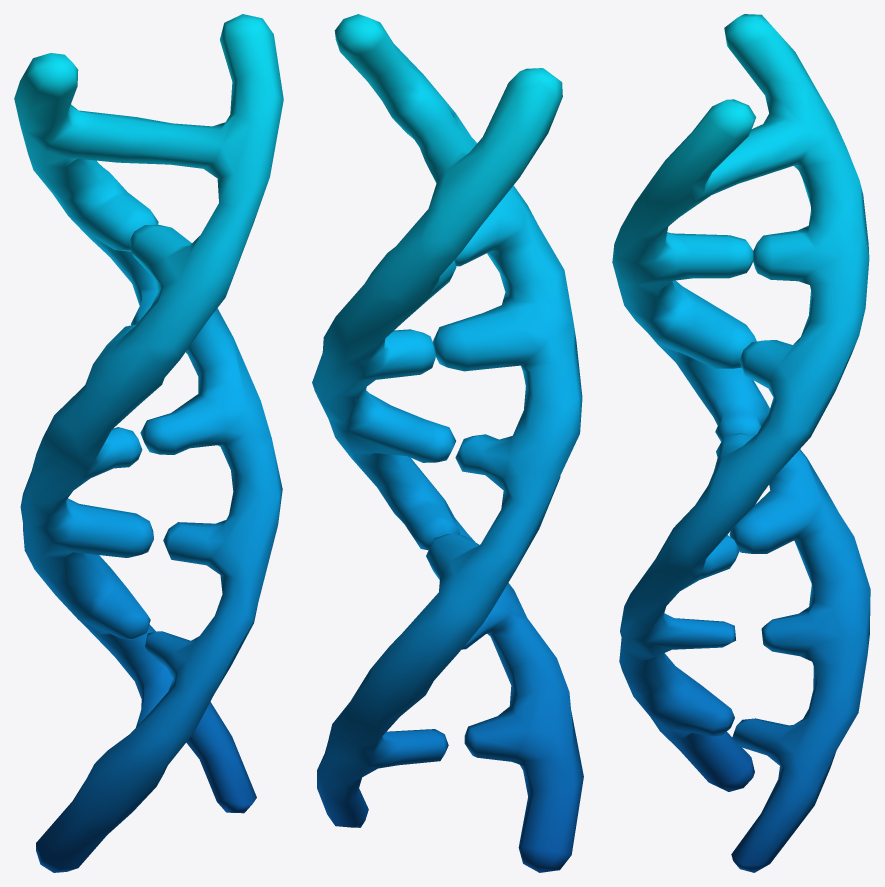
Rendered from Capsule_contents_005.fbx.
3 views of the same model, side by side, from view 1: azimuth 30°, elevation 25°; view 2: azimuth 150°, elevation 25°; view 3: azimuth 270°, elevation 25° (orthographic). The views are drawn at different scales.
Parts seen in each view (by area): view 1: Сapsule_contents_005; view 2: Сapsule_contents_005; view 3: Сapsule_contents_005.
Part boxes in pixels (x1,y1,x2,y2): Сapsule_contents_005: [14, 14, 283, 872]; Сapsule_contents_005: [312, 14, 583, 872]; Сapsule_contents_005: [612, 14, 870, 872].
Bounding box in the file's own units: 39.74 × 40.13 × 132.
